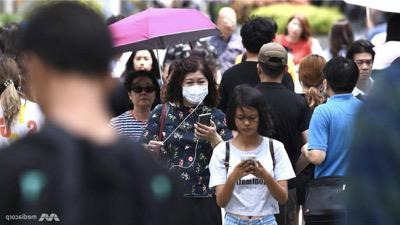with_mask: (181, 76, 210, 106)
without_mask: (130, 82, 156, 108), (235, 111, 259, 137), (354, 57, 374, 81), (131, 54, 152, 72), (287, 21, 303, 40)
